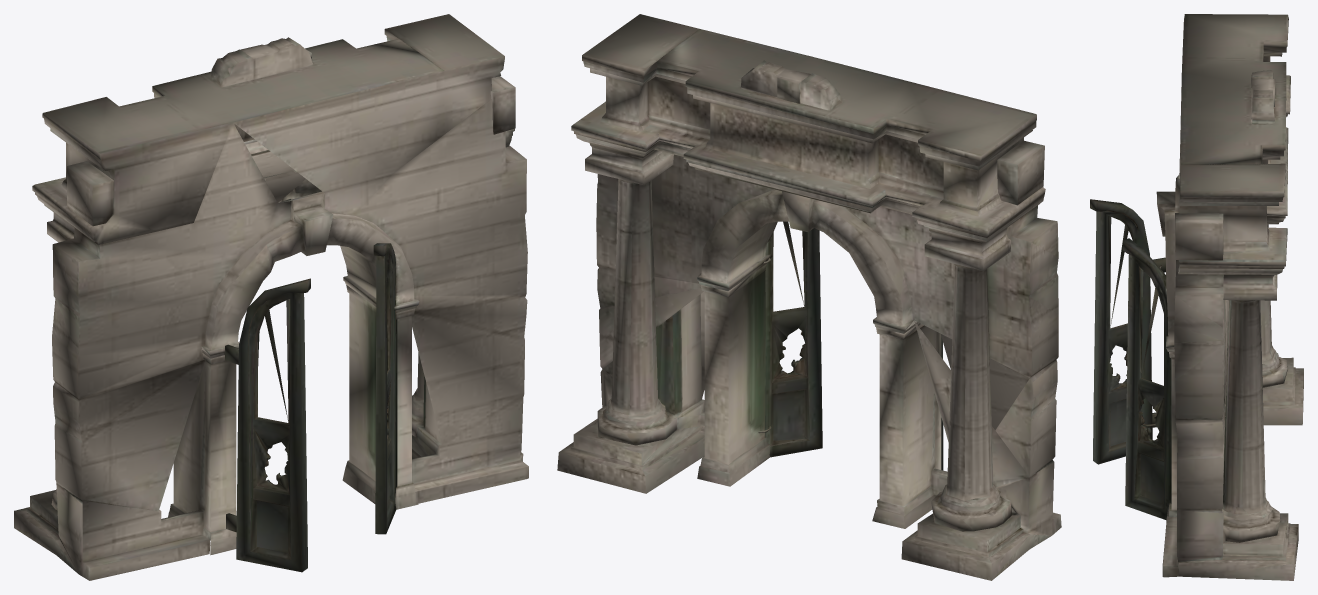
File: arena_gate.glb
The picture shows the model from 3 angles, left to right: view 1: azimuth 30°, elevation 25°; view 2: azimuth 150°, elevation 25°; view 3: azimuth 270°, elevation 25°; orthographic projection. The views are drawn at different scales.
Parts seen in each view (by area): view 1: arena_gate; view 2: arena_gate; view 3: arena_gate.
Boxes of the visible parts, box(x1,y1,x2,y2) form: arena_gate: box(14, 14, 528, 580); arena_gate: box(557, 14, 1061, 580); arena_gate: box(1090, 14, 1303, 580).
Size of the model in its own units: 6.32 by 6 by 2.9.
Materials: 1 (1 with a texture image).
